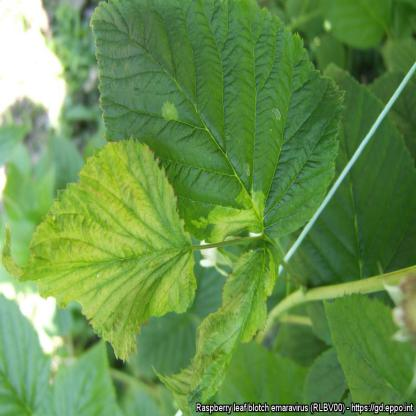Raspberry leaf: (88, 1, 347, 255), (0, 131, 199, 360), (156, 241, 279, 404)
